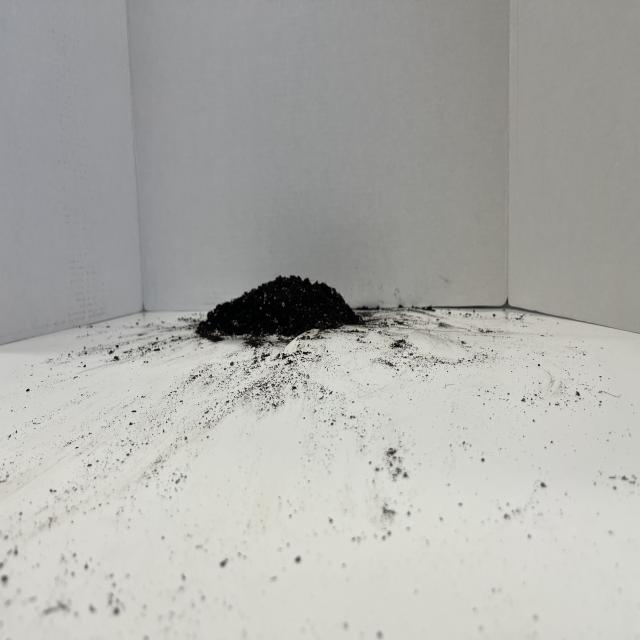soil: (193, 271, 364, 346)
